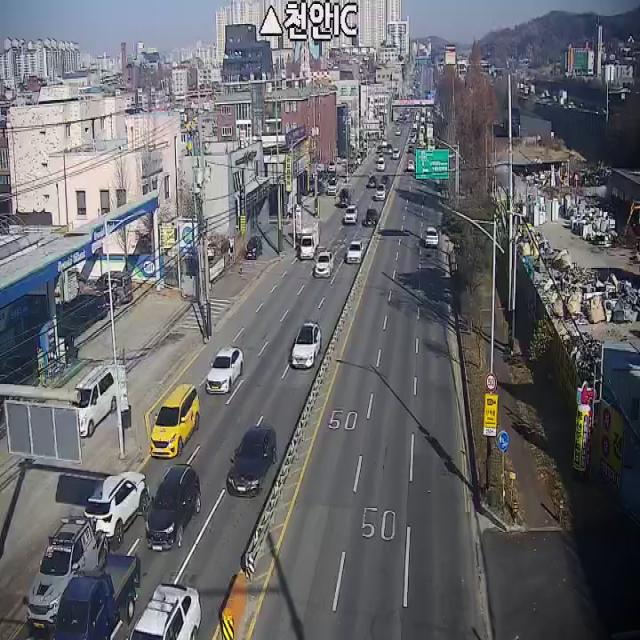Car: (26, 517, 107, 630), (146, 464, 201, 551), (126, 583, 201, 640), (149, 384, 200, 458), (226, 425, 276, 498), (96, 472, 147, 541), (73, 366, 118, 438), (206, 346, 244, 394), (290, 322, 322, 370), (94, 270, 133, 305), (314, 251, 334, 278), (346, 241, 363, 264), (245, 236, 262, 259), (425, 226, 439, 246), (338, 187, 352, 207), (344, 205, 358, 224), (364, 209, 378, 225), (375, 184, 386, 200), (327, 179, 337, 195), (377, 157, 385, 170), (368, 176, 377, 187), (392, 148, 400, 158), (408, 159, 414, 170), (387, 144, 392, 153), (382, 138, 387, 146), (377, 145, 382, 153)
Truck: (56, 554, 140, 640), (300, 223, 320, 259)
